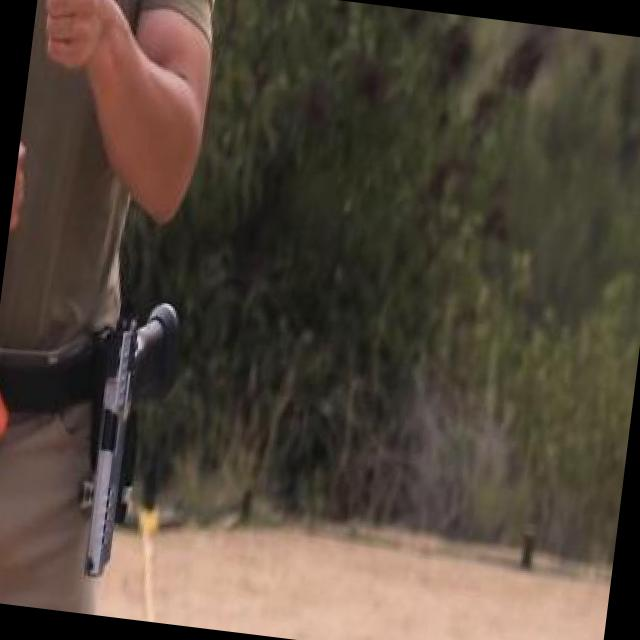Guns: (15, 248, 204, 610)
